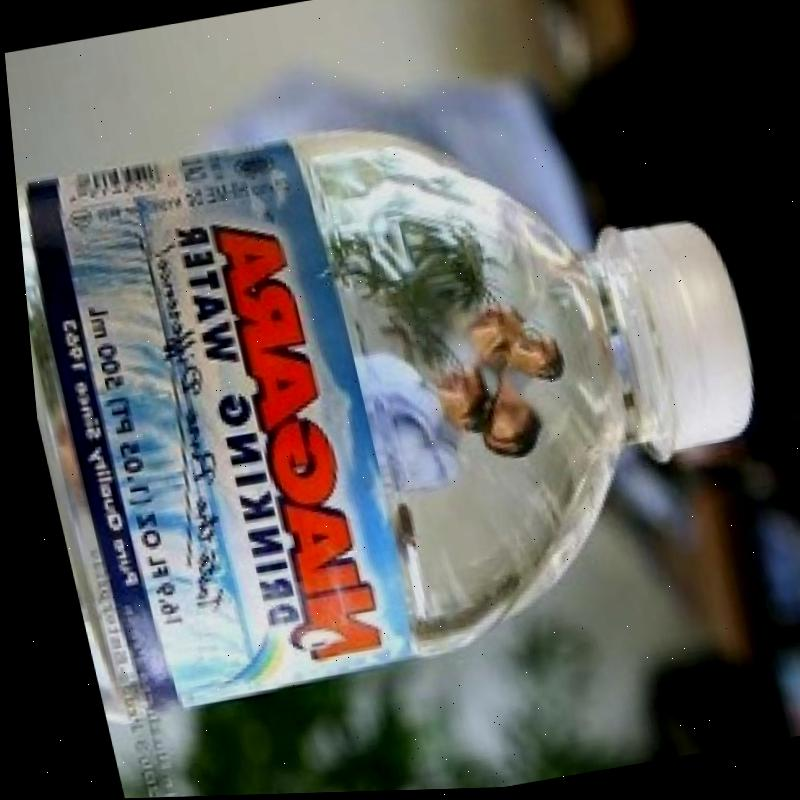botella: (6, 64, 800, 731)
